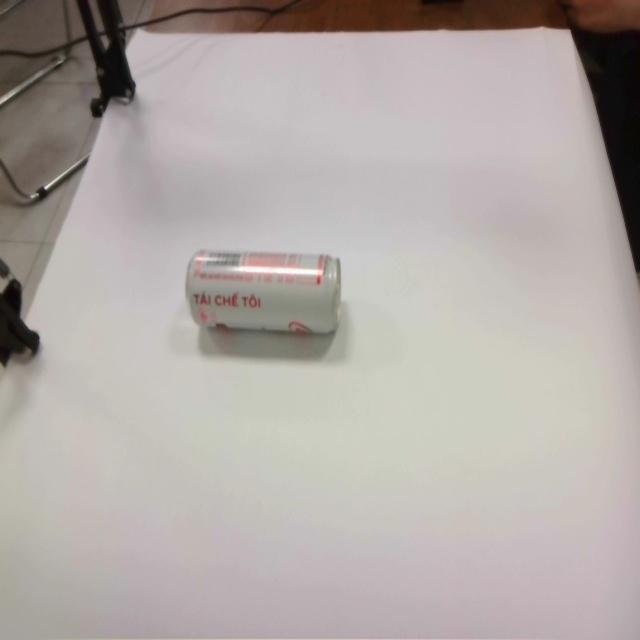debris: (184, 248, 343, 338)
